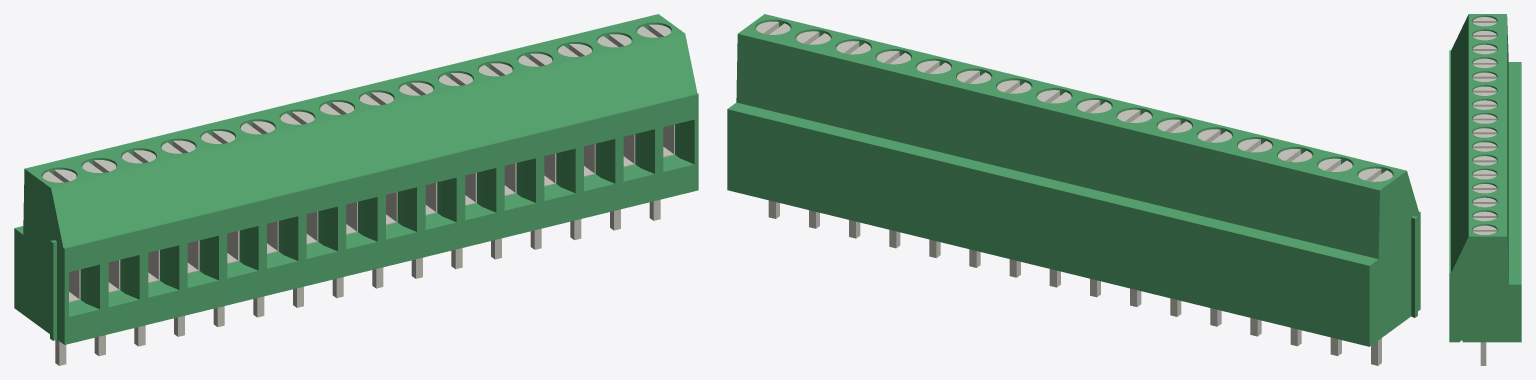
Rendered from kc-terminalblock_phoenix_mkds-3-16-5.08_1x16_p5.08mm_horizontal.glb.
The picture shows the model from 3 angles, left to right: view 1: azimuth 30°, elevation 25°; view 2: azimuth 150°, elevation 25°; view 3: azimuth 270°, elevation 25°; orthographic projection. The views are drawn at different scales.
Parts seen in each view (by area): view 1: 0.08333333333333333_0.4166666666666667_0.16666666666666666_0, 0.6666666666666666_0.6666666666666666_0.5833333333333334_0.8; view 2: 0.08333333333333333_0.4166666666666667_0.16666666666666666_0, 0.6666666666666666_0.6666666666666666_0.5833333333333334_0.8; view 3: 0.08333333333333333_0.4166666666666667_0.16666666666666666_0, 0.6666666666666666_0.6666666666666666_0.5833333333333334_0.8.
Part boxes in pixels (left/top/right/bottom): 0.08333333333333333_0.4166666666666667_0.16666666666666666_0: left=14, top=14, right=698, bottom=344; 0.6666666666666666_0.6666666666666666_0.5833333333333334_0.8: left=42, top=24, right=674, bottom=365; 0.08333333333333333_0.4166666666666667_0.16666666666666666_0: left=727, top=14, right=1420, bottom=346; 0.6666666666666666_0.6666666666666666_0.5833333333333334_0.8: left=756, top=21, right=1392, bottom=365; 0.08333333333333333_0.4166666666666667_0.16666666666666666_0: left=1449, top=14, right=1521, bottom=342; 0.6666666666666666_0.6666666666666666_0.5833333333333334_0.8: left=1472, top=17, right=1496, bottom=365.
Size of the model in its own units: 8.19 by 2.3 by 1.12.
